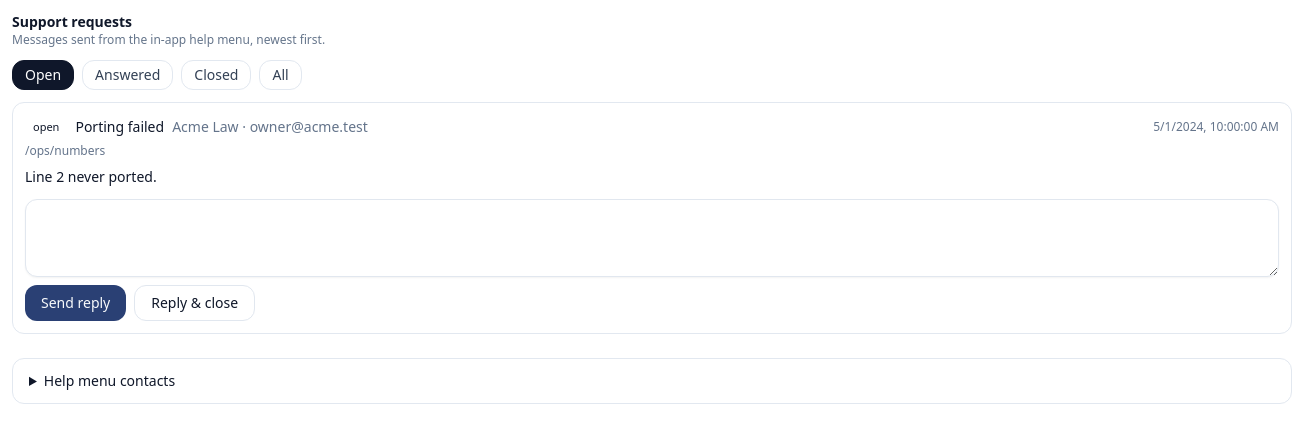
Scenario: SupportTab › posts close:true from Reply & close
Step 1. Type "Closing this out." into the text box named "Reply to Porting failed" → (652, 238), box [25, 199, 1279, 277]
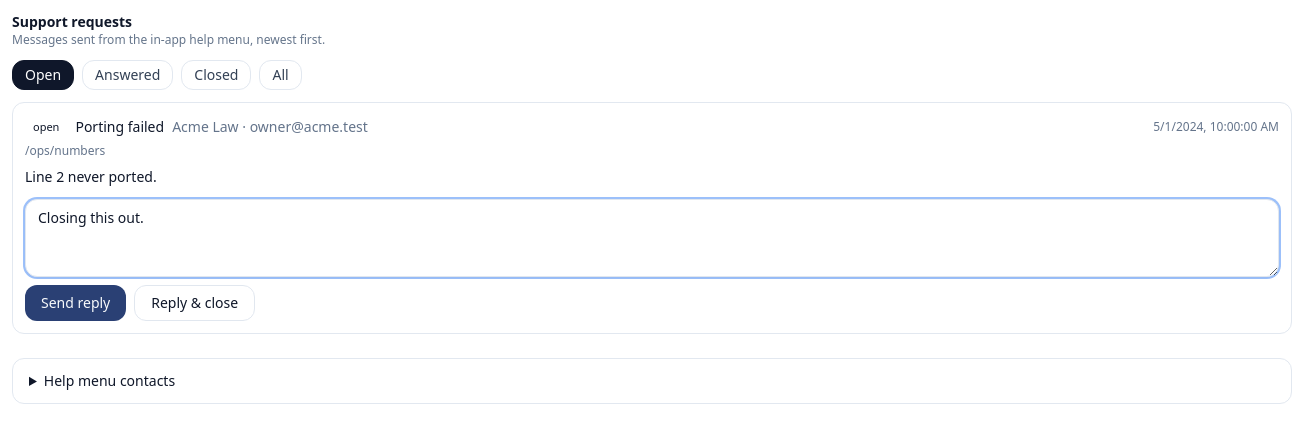
Step 2. Click the button "Reply & close" → (195, 303), box [134, 285, 255, 321]
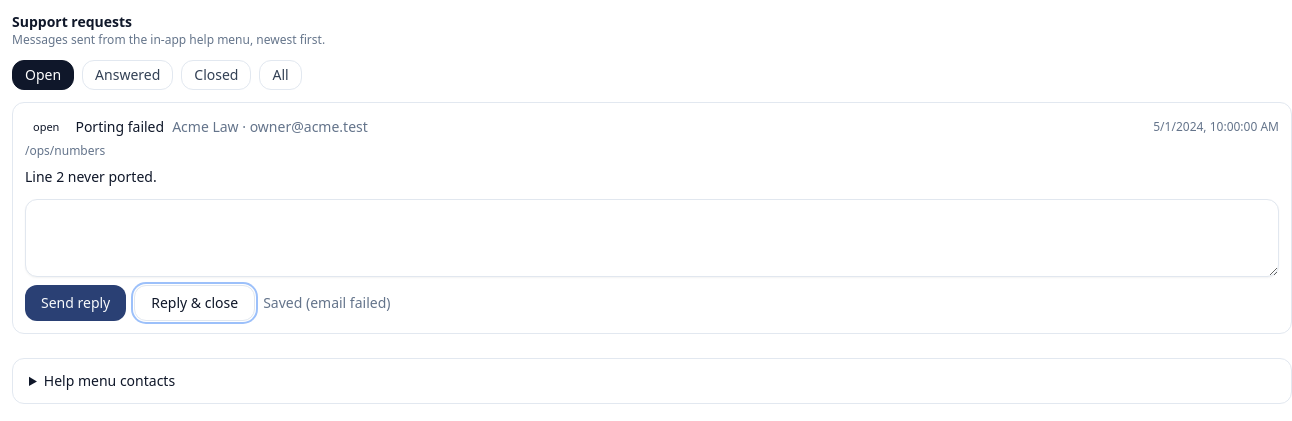
Now the text "Saved (email failed)" is shown, box [263, 293, 390, 313]
